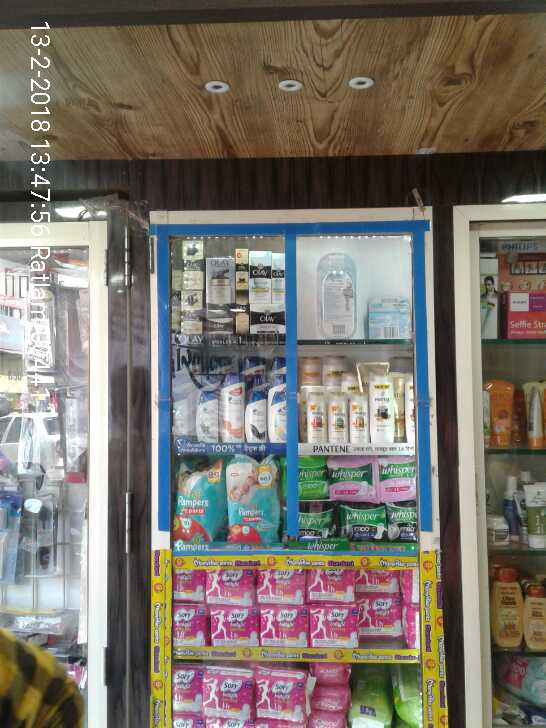venus: (321, 252, 358, 340), (367, 297, 411, 337)
